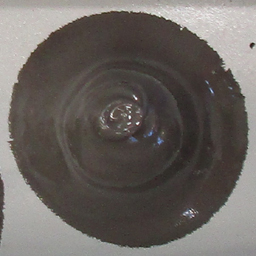perfect: (6, 5, 252, 248)
